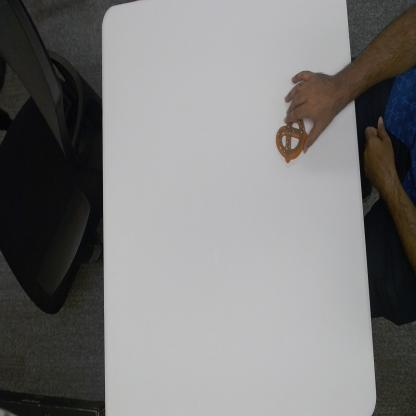Hand: (283, 65, 347, 151)
Pretzel: (275, 110, 311, 166)
